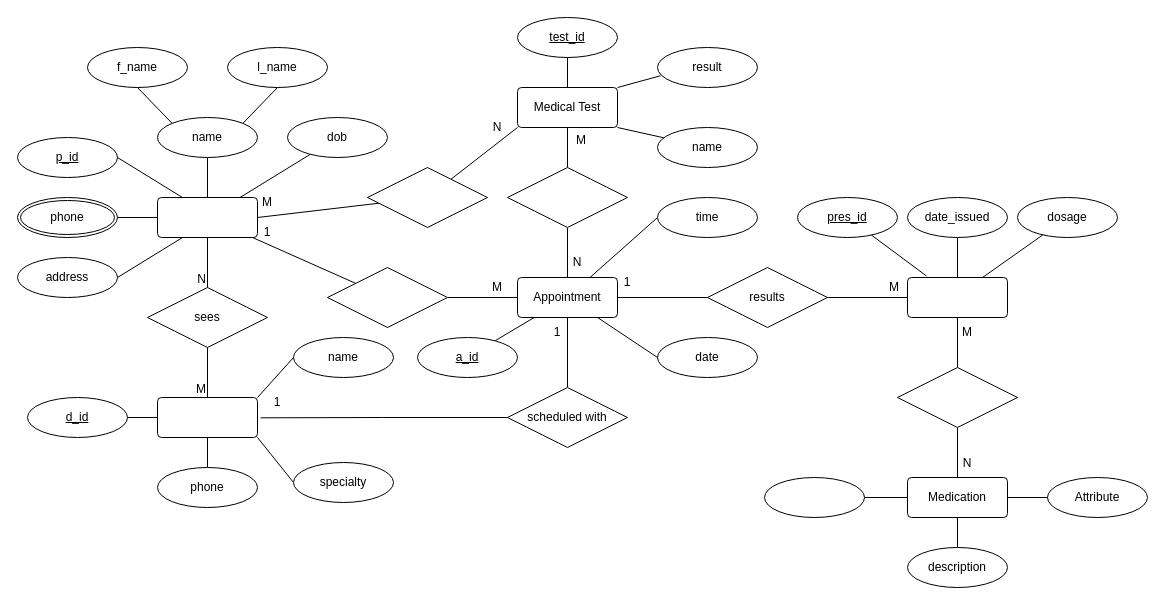
Image size: 1165x605. Some labels were removed from this diagram. The box of each missing label's shape, as (x1, y1, x2, y2) in pixels:
books: (326, 266, 448, 328)
Doctor: (156, 396, 258, 438)
includes: (896, 366, 1018, 428)
med_id: (764, 476, 864, 518)
Patient: (156, 196, 258, 238)
Prescription: (906, 276, 1008, 318)
refers: (506, 166, 628, 228)
undergoes: (366, 166, 488, 228)
